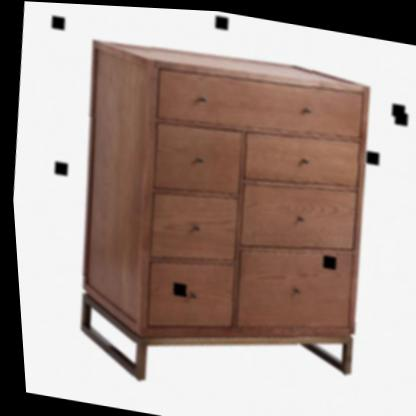Sideboard: (50, 30, 388, 416)
